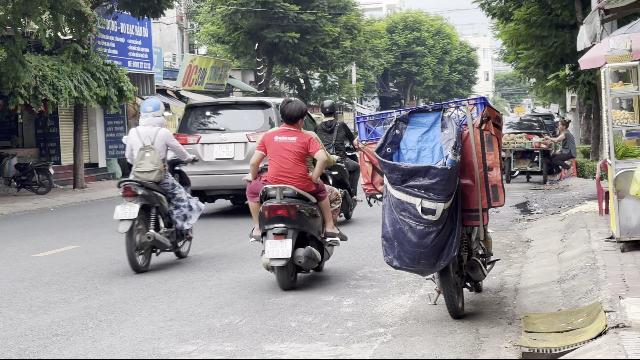helmet: (138, 95, 166, 125), (319, 99, 337, 119)
licenseplate: (264, 239, 292, 257), (113, 203, 139, 219)
motorcyclist: (242, 96, 348, 290), (111, 95, 203, 269)
nohelmet: (277, 98, 307, 128)
